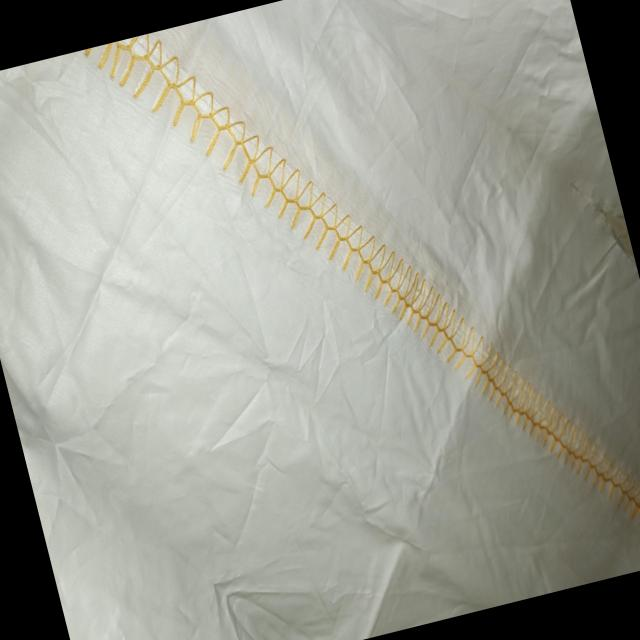gray stitch: (92, 4, 318, 258), (294, 188, 470, 388), (468, 308, 623, 509), (610, 468, 640, 568)
